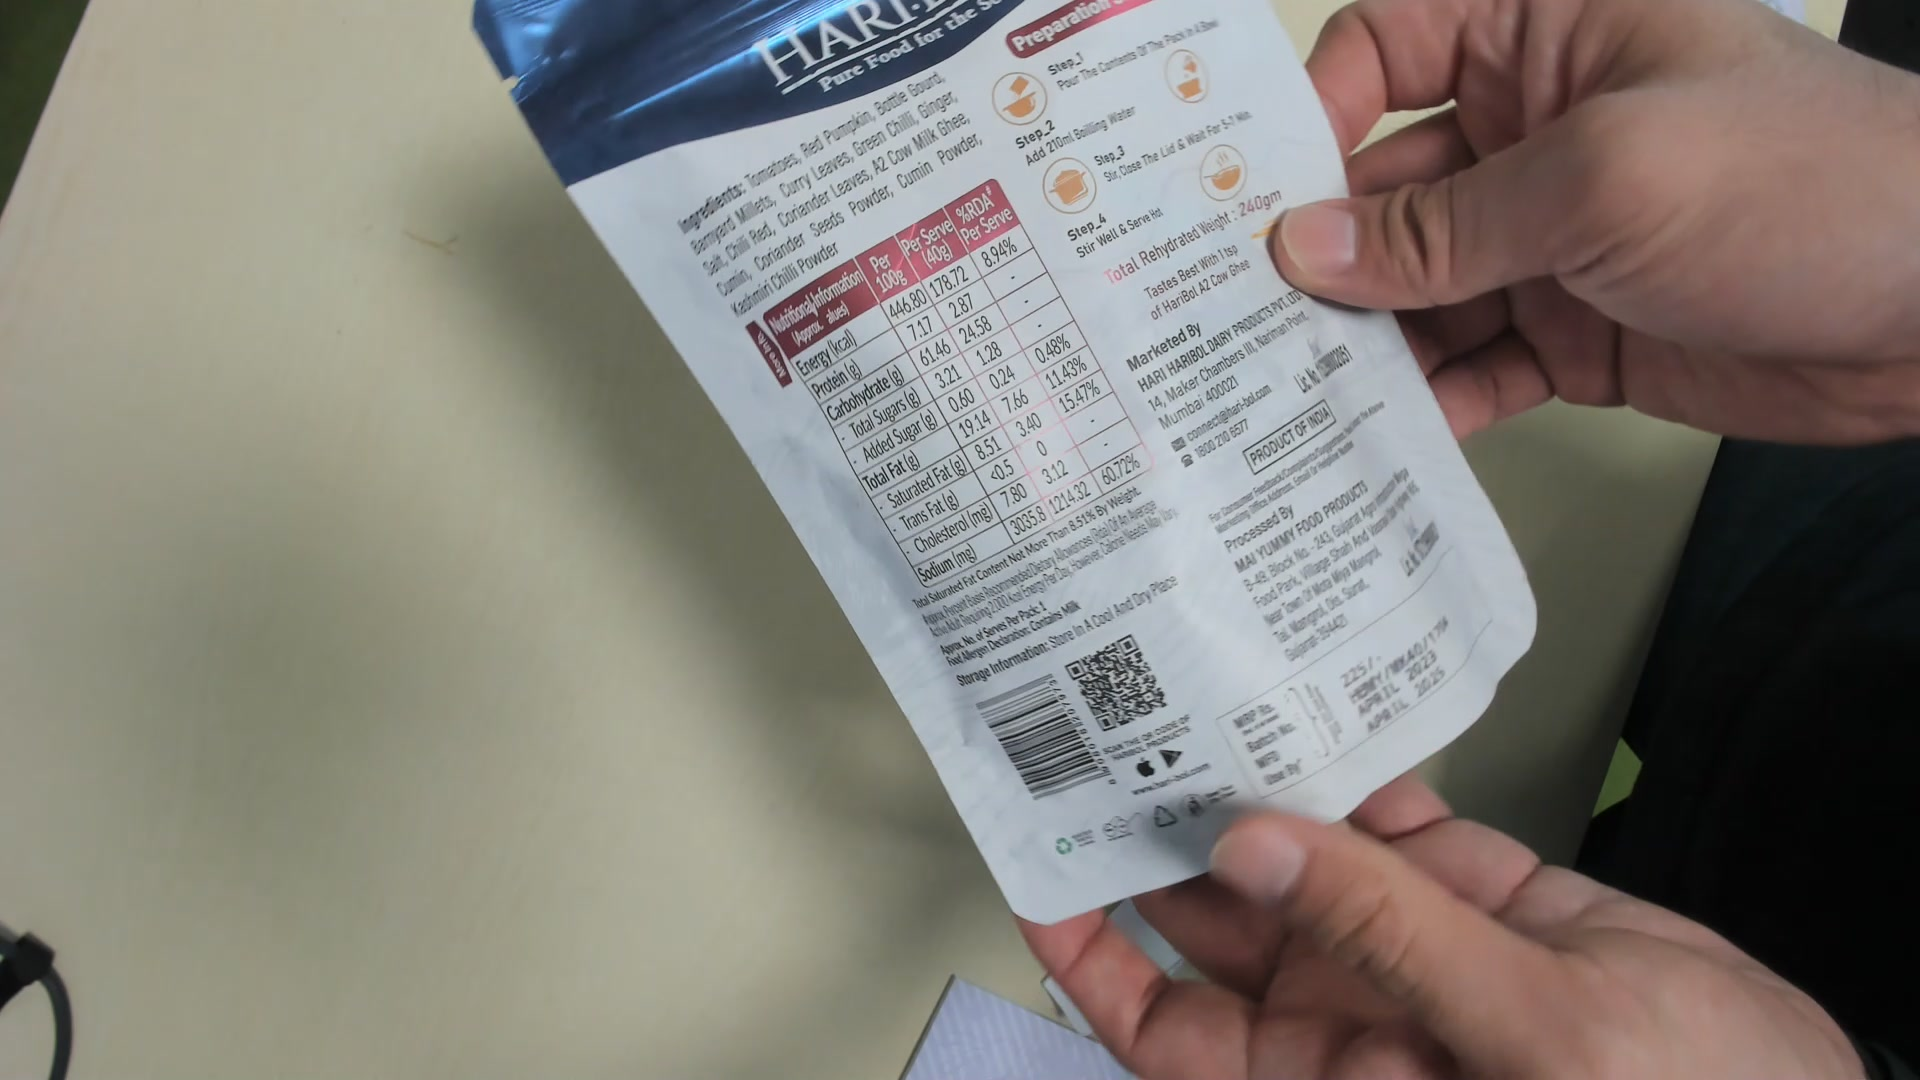InstantMeals_0-99g_NonHalal_NonHealthy: (468, 1, 1540, 924)
